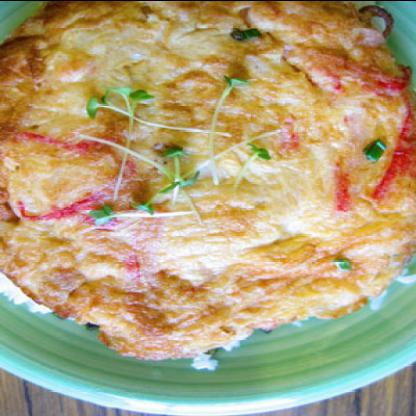Omelette: (0, 1, 415, 373)
